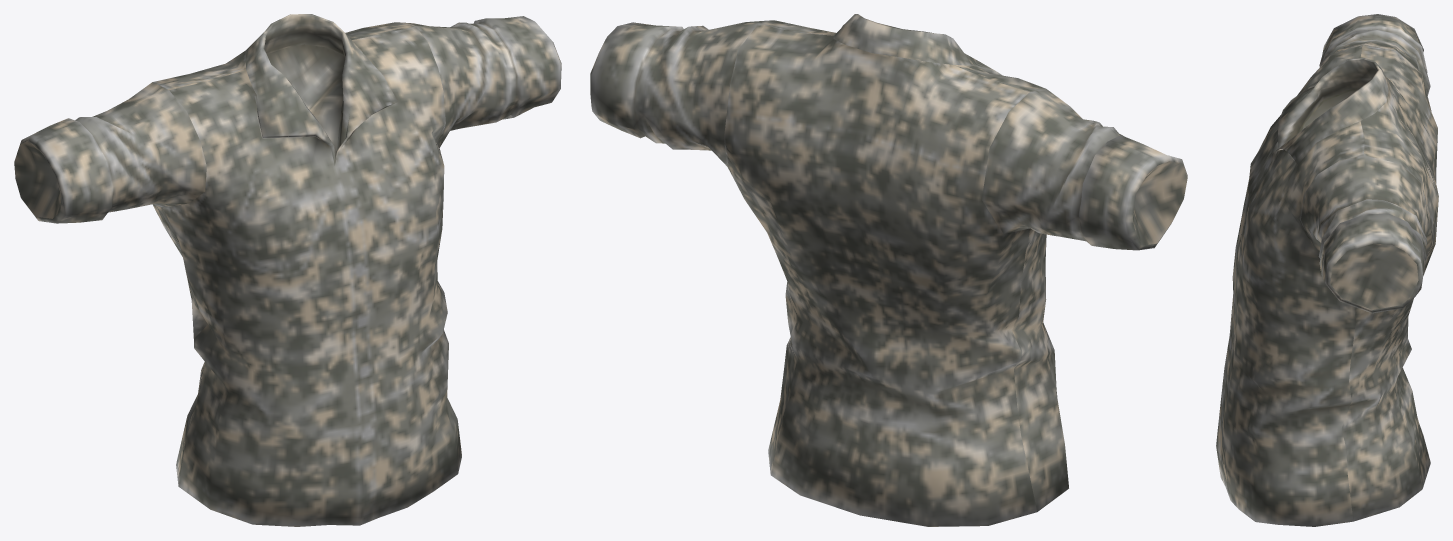
Rendered from Shirt.fbx.
3 views of the same model, side by side, from view 1: azimuth 30°, elevation 25°; view 2: azimuth 150°, elevation 25°; view 3: azimuth 270°, elevation 25° (orthographic). The views are drawn at different scales.
Parts seen in each view (by area): view 1: Shirt1.024; view 2: Shirt1.024; view 3: Shirt1.024.
Part boxes in pixels (box(x1,y1,x2,y2)): Shirt1.024: box(14, 14, 561, 526); Shirt1.024: box(590, 14, 1187, 526); Shirt1.024: box(1216, 14, 1438, 526).
Size of the model in its own units: 7998 by 6780 by 3284.
Materials: 1 (1 with a texture image).
